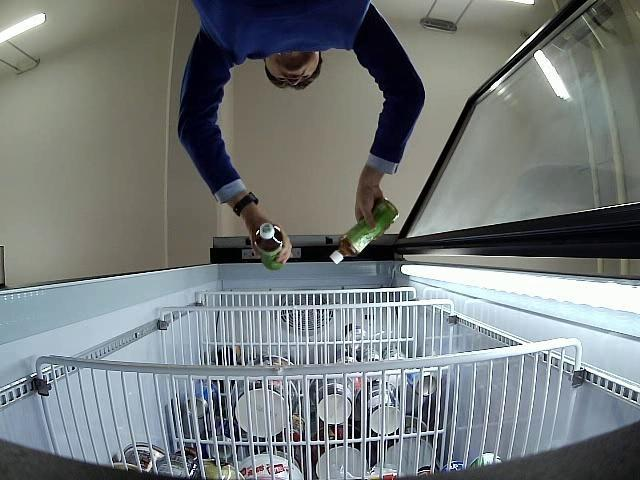19_17cha: (331, 198, 398, 265), (256, 223, 286, 270)
